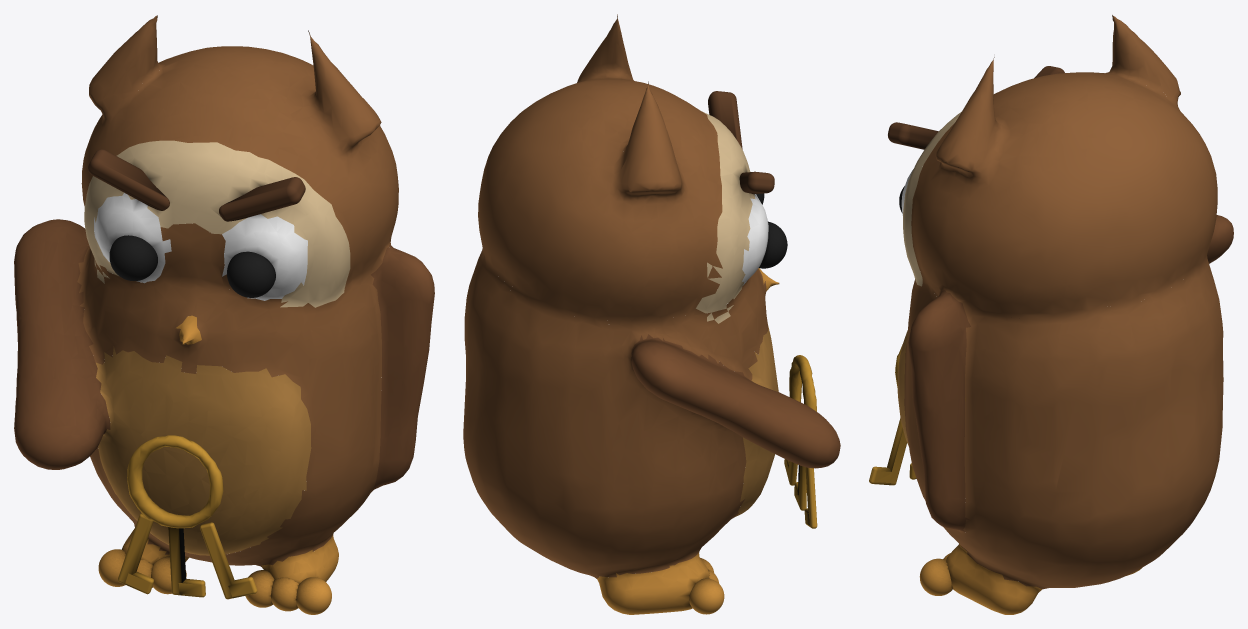
Rendered from jag-maste-gora-en-felanmalan.glb.
3 views of the same model, side by side, from view 1: azimuth 30°, elevation 25°; view 2: azimuth 150°, elevation 25°; view 3: azimuth 270°, elevation 25° (orthographic). The views are drawn at different scales.
Visible parts, largest first — view 1: coruja__r0, coruja__r10, coruja__r12, coruja__r11, coruja__r9, coruja__r6, coruja__r16, coruja__r2, coruja__r4, coruja__r15, coruja__r1, coruja__r14 (+1 smaller); view 2: coruja__r0, coruja__r12, coruja__r1, coruja__r9, coruja__r10, coruja__r2; view 3: coruja__r0, coruja__r16, coruja__r12, coruja__r6.
Part boxes in pixels (left/top/right/bottom): coruja__r0: left=14, top=15, right=434, bottom=583; coruja__r10: left=88, top=149, right=169, bottom=210; coruja__r12: left=219, top=177, right=305, bottom=221; coruja__r11: left=227, top=251, right=275, bottom=297; coruja__r9: left=109, top=235, right=157, bottom=280; coruja__r6: left=200, top=522, right=235, bottom=599; coruja__r16: left=296, top=577, right=331, bottom=614; coruja__r2: left=118, top=513, right=153, bottom=585; coruja__r4: left=168, top=527, right=186, bottom=595; coruja__r15: left=271, top=577, right=299, bottom=611; coruja__r1: left=98, top=549, right=125, bottom=586; coruja__r14: left=245, top=570, right=274, bottom=607; coruja__r0: left=463, top=14, right=840, bottom=614; coruja__r12: left=708, top=91, right=742, bottom=149; coruja__r1: left=689, top=578, right=724, bottom=614; coruja__r9: left=759, top=221, right=787, bottom=268; coruja__r10: left=739, top=171, right=774, bottom=194; coruja__r2: left=805, top=467, right=817, bottom=528; coruja__r0: left=895, top=15, right=1233, bottom=614; coruja__r16: left=919, top=558, right=952, bottom=595; coruja__r12: left=888, top=122, right=938, bottom=149; coruja__r6: left=887, top=418, right=906, bottom=485.
Bounding box in the file's own units: 0.7082 × 1.05 × 0.6226.
